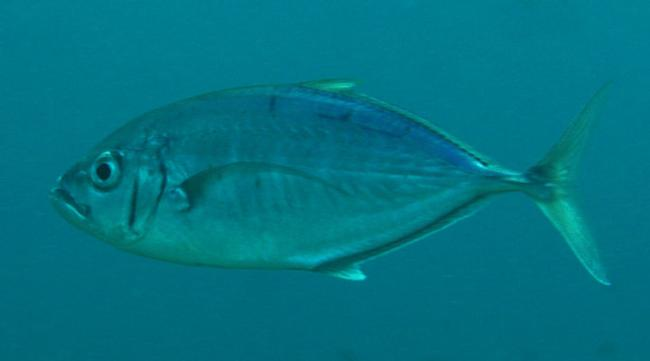fish: (50, 80, 613, 289)
